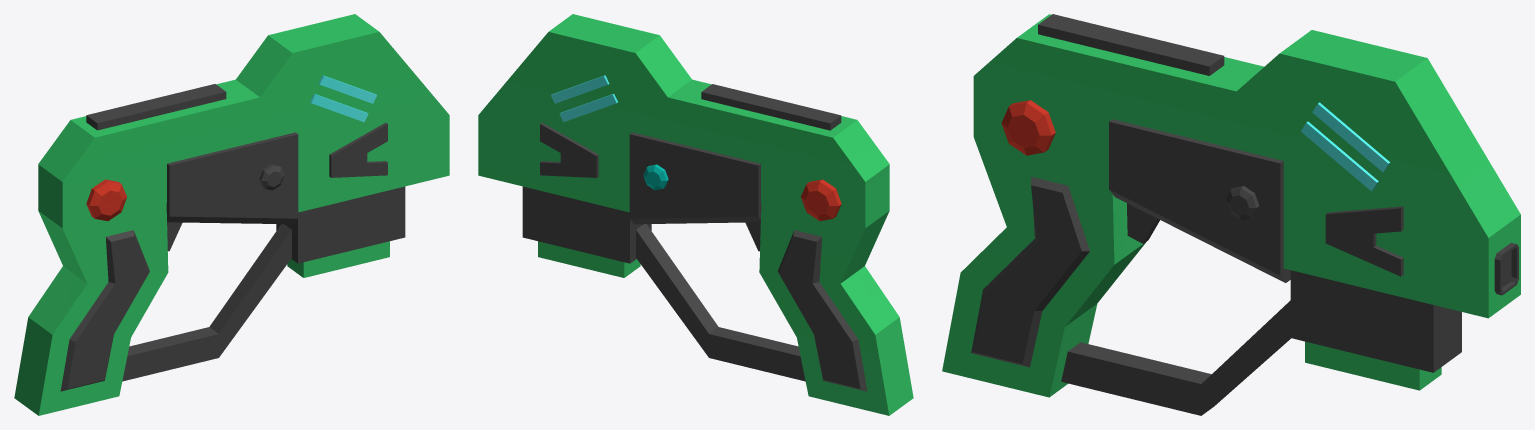
File: M_Nebula_Cannon.fbx
3 renders of one model, left to right at view 1: azimuth 30°, elevation 25°; view 2: azimuth 150°, elevation 25°; view 3: azimuth 330°, elevation 25°, orthographic. The views are drawn at different scales.
Visible parts, largest first — view 1: M_Nebula_Cannon; view 2: M_Nebula_Cannon; view 3: M_Nebula_Cannon.
Boxes of the visible parts, box(x1,y1,x2,y2) form: M_Nebula_Cannon: box(14, 14, 449, 415); M_Nebula_Cannon: box(478, 14, 913, 415); M_Nebula_Cannon: box(942, 14, 1520, 415).
Bounding box in the file's own units: 133 × 92.39 × 20.38.
1 material, 1 textured.
